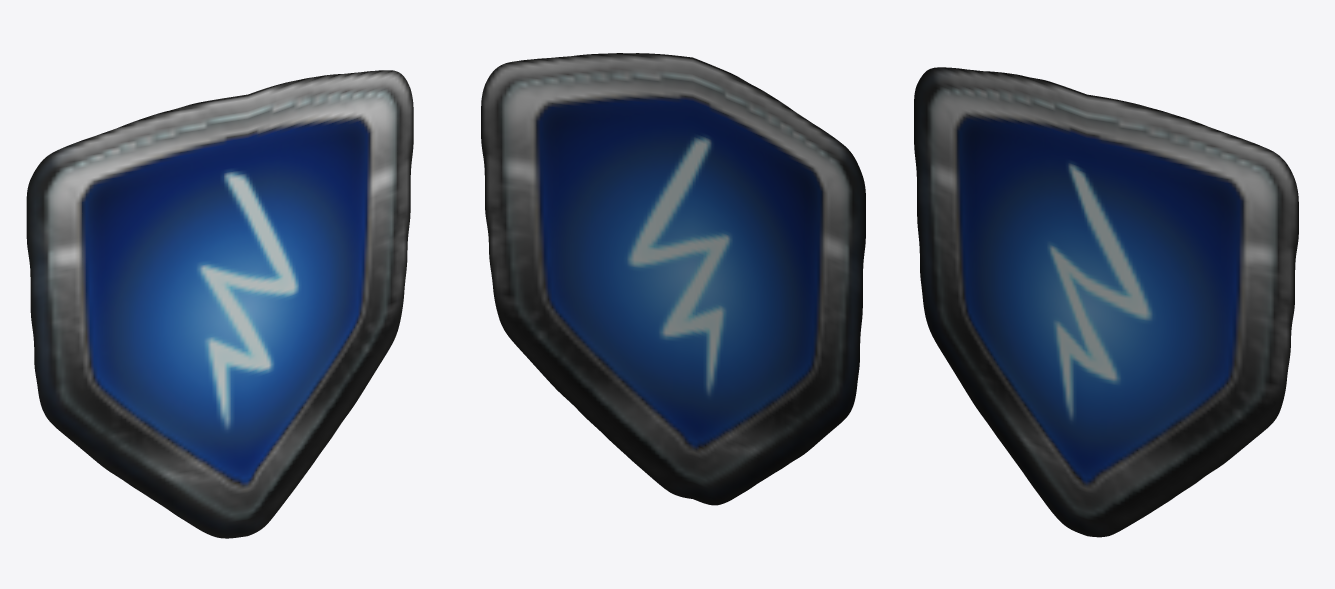
File: spell_shield.fbx
The picture shows the model from 3 angles, left to right: view 1: azimuth 30°, elevation 25°; view 2: azimuth 150°, elevation 25°; view 3: azimuth 330°, elevation 25°; orthographic projection.
Parts seen in each view (by area): view 1: shield_mesh; view 2: shield_mesh; view 3: shield_mesh.
Boxes of the visible parts, bbox=[...] form: shield_mesh: bbox=[26, 70, 413, 538]; shield_mesh: bbox=[481, 53, 865, 505]; shield_mesh: bbox=[914, 67, 1298, 537].
Bounding box in the file's own units: 1.6 × 1.7 × 0.1688.
